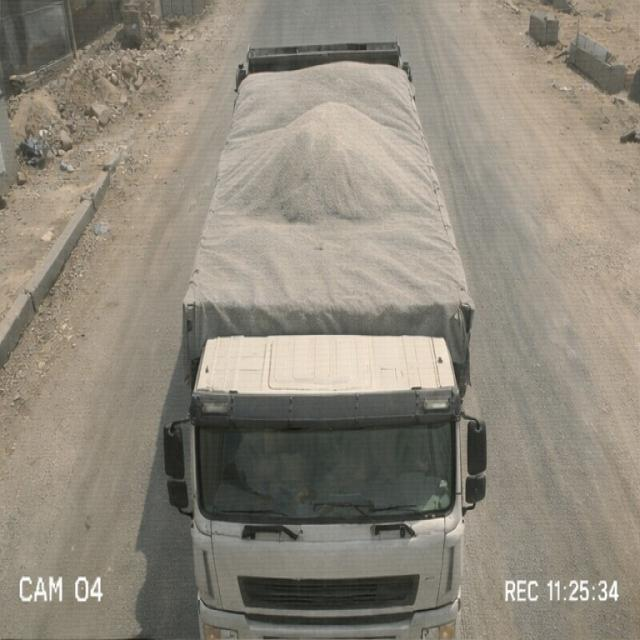Box: (178, 44, 482, 324)
Truck: (166, 23, 500, 638)
